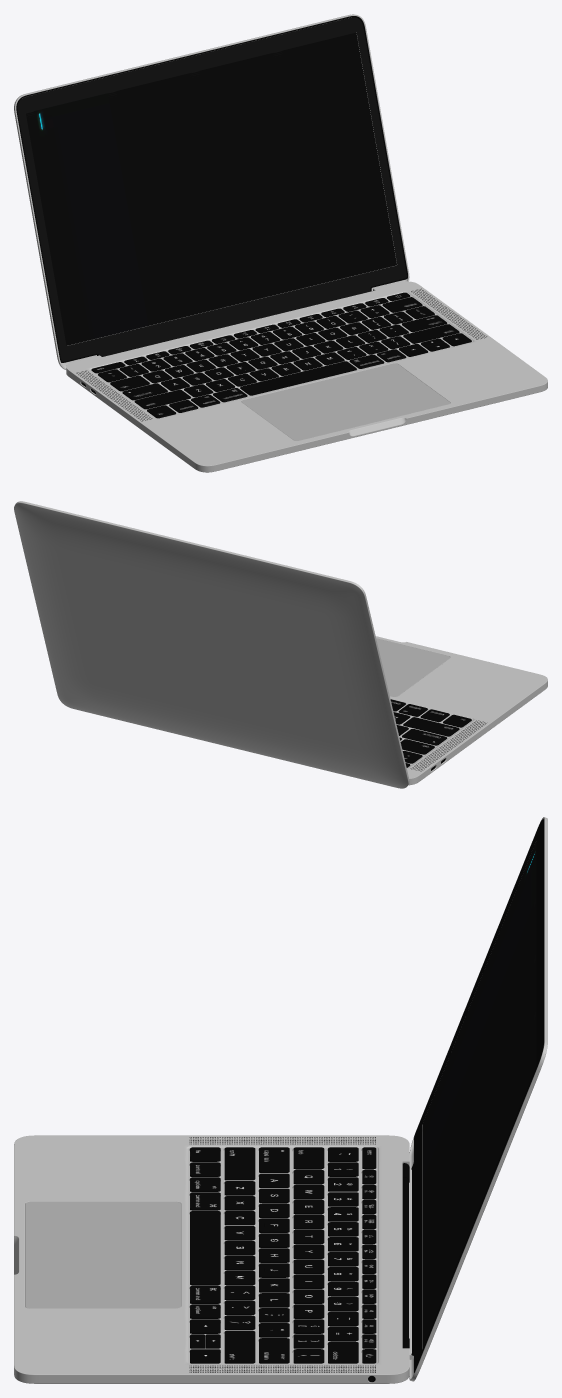
File: laptop4.glb
The picture shows the model from 3 angles, top to bottom: view 1: azimuth 30°, elevation 25°; view 2: azimuth 150°, elevation 25°; view 3: azimuth 270°, elevation 25°; orthographic projection. The views are drawn at different scales.
Visible parts, largest first — view 1: Screen, Body, Keyboard, Black_Frame, Touchpad, Top, Black_Frame_2, Speaker; view 2: Top, Body, Keyboard, Touchpad, Speaker; view 3: Body, Keyboard, Screen, Touchpad, Black_Frame, Top, Speaker, Black_Frame_2, Connector.
Boxes of the visible parts, <box> form: Screen: <box>26,32,396,345</box>; Body: <box>66,281,547,472</box>; Keyboard: <box>91,292,471,418</box>; Black_Frame: <box>17,17,406,361</box>; Touchpad: <box>241,363,450,440</box>; Top: <box>14,14,409,369</box>; Black_Frame_2: <box>16,16,407,362</box>; Speaker: <box>76,288,486,421</box>; Top: <box>14,501,409,788</box>; Body: <box>375,636,547,785</box>; Keyboard: <box>390,699,471,767</box>; Touchpad: <box>376,638,450,696</box>; Speaker: <box>410,720,486,771</box>; Body: <box>14,1135,409,1383</box>; Keyboard: <box>190,1147,376,1363</box>; Screen: <box>422,841,536,1347</box>; Touchpad: <box>25,1201,181,1308</box>; Black_Frame: <box>412,821,543,1370</box>; Top: <box>409,817,547,1381</box>; Speaker: <box>189,1137,375,1372</box>; Black_Frame_2: <box>411,819,543,1372</box>; Connector: <box>402,1163,409,1348</box>.
Size of the model in its own units: 0.3041 by 0.2025 by 0.2866.
10 materials, 2 textured.
